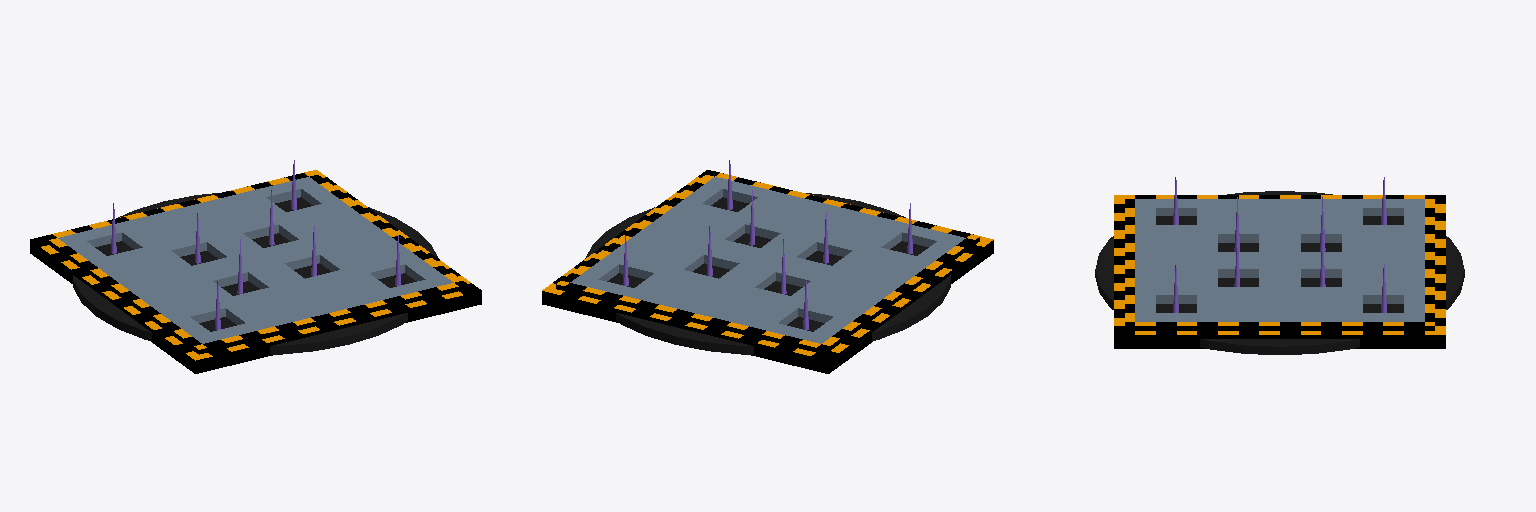
The picture shows the model from 3 angles: view 1: azimuth 30°, elevation 25°; view 2: azimuth 150°, elevation 25°; view 3: azimuth 270°, elevation 25°; orthographic projection.
Visible parts, largest first — view 1: Cube.001, Cylinder_Cylinder.001; view 2: Cube.001, Cylinder_Cylinder.001; view 3: Cube.001, Cylinder_Cylinder.001.
Part boxes in pixels (x1,y1,x2,y2): Cube.001: (30, 170, 481, 373); Cylinder_Cylinder.001: (73, 193, 438, 354); Cube.001: (542, 170, 993, 373); Cylinder_Cylinder.001: (585, 193, 950, 354); Cube.001: (1114, 195, 1445, 348); Cylinder_Cylinder.001: (1095, 191, 1464, 354).
Size of the model in its own units: 3.9 by 1 by 3.9.
Materials: 1 (1 with a texture image).